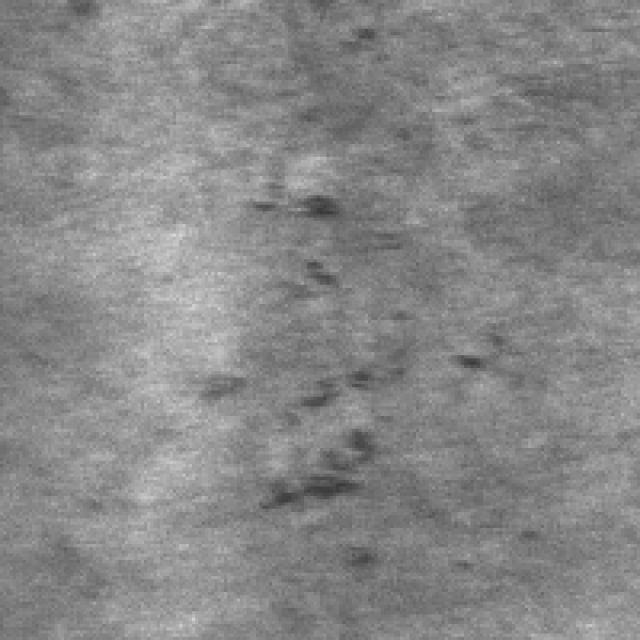rolled-in_scale: (224, 138, 432, 586)
